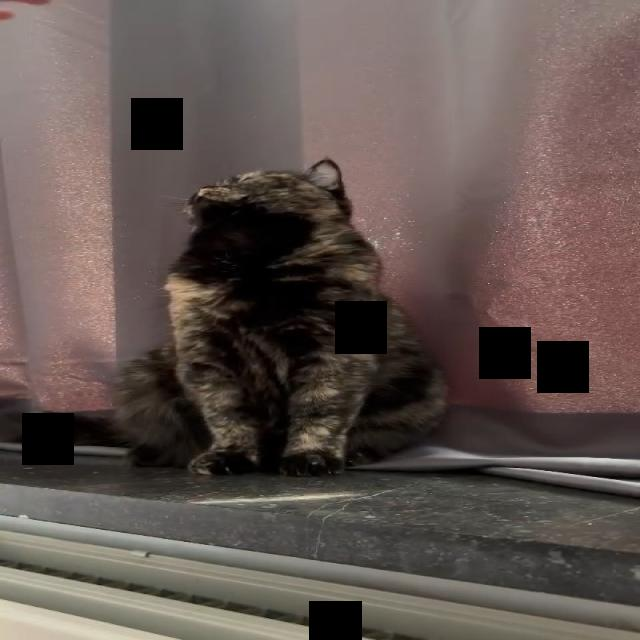authorized: (108, 156, 449, 477)
